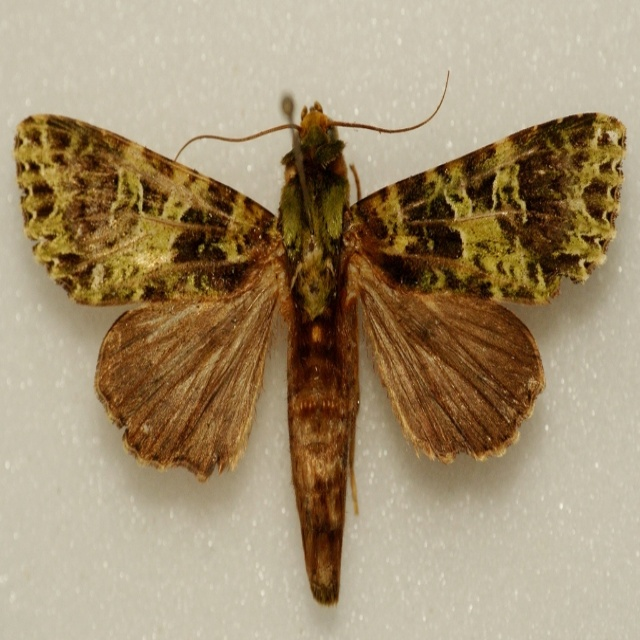Butterfly: (12, 70, 629, 602)
